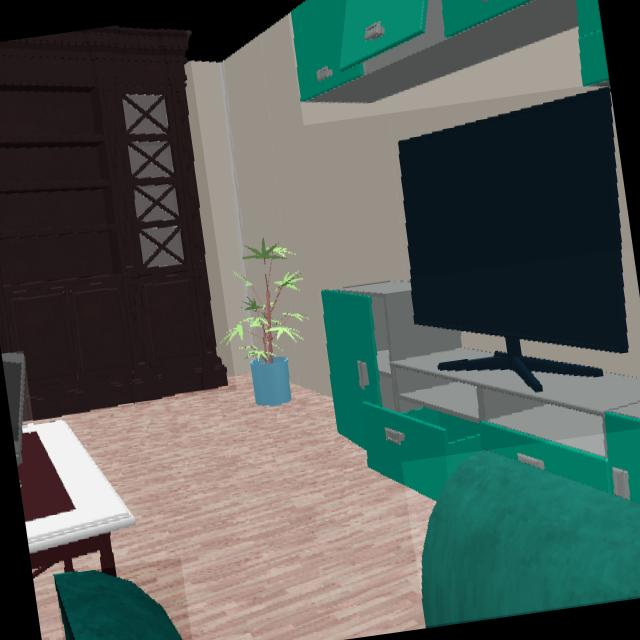cabinet: (0, 27, 227, 420), (323, 283, 640, 503), (291, 0, 610, 102)
laptop: (2, 353, 26, 463)
sofa: (423, 451, 640, 625), (54, 570, 183, 640)
table: (18, 422, 135, 577)
